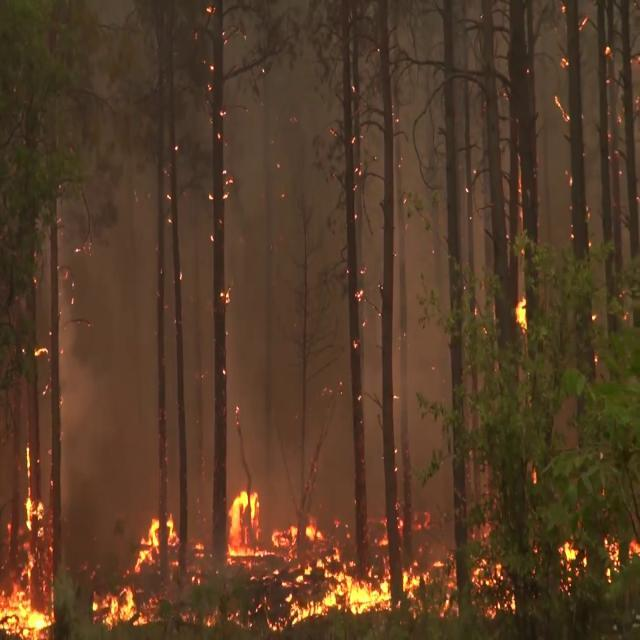Fire: (225, 490, 456, 628), (0, 439, 55, 637), (92, 504, 174, 628), (554, 532, 582, 590), (514, 291, 528, 335)
Smoke: (3, 22, 481, 504)
